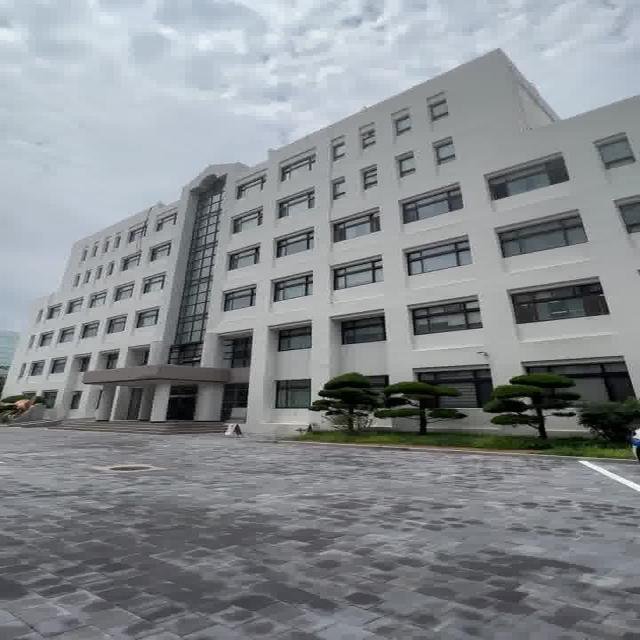building: (39, 115, 640, 394)
